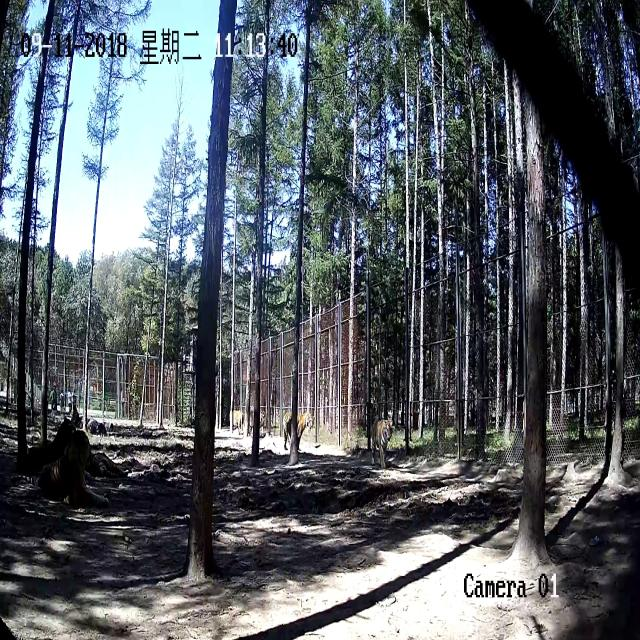Tiger: (18, 427, 122, 518), (367, 407, 399, 474), (281, 405, 317, 458), (225, 402, 249, 437)
